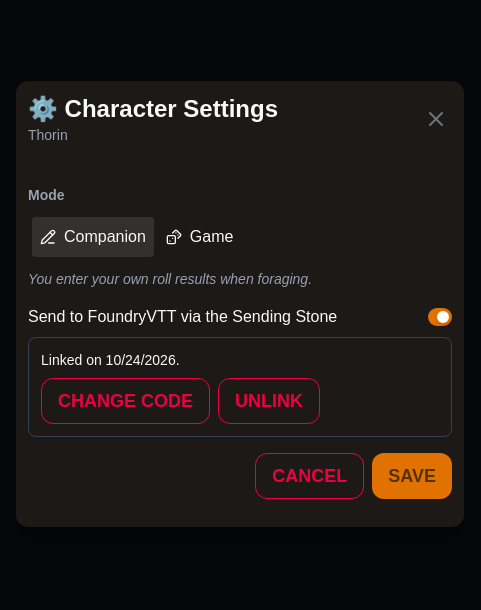
it: components/modals/character-settings-modal › for a linked character › should unlink it at once
The width and height of the screenshot is (481, 610).
Click the button "Unlink" at (269, 401), box [218,378,320,424]
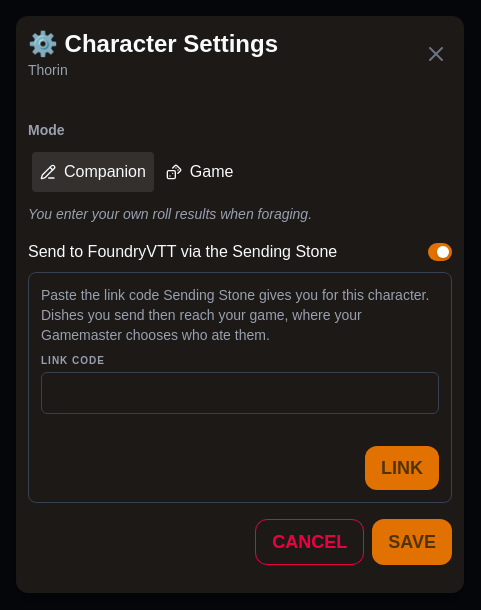
Result: the field with test id "link-sending-stone-form__token" is shown at [41,372,439,414]
Result: the text "Linked on" is gone
